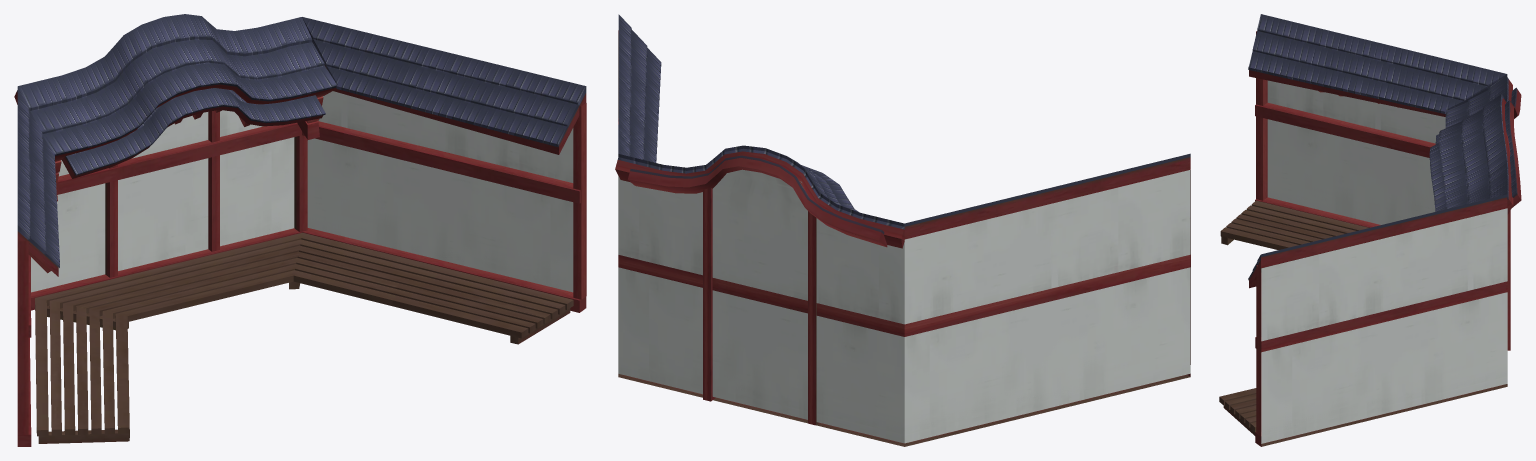
File: vipwall01.glb
3 renders of one model, left to right at view 1: azimuth 30°, elevation 25°; view 2: azimuth 150°, elevation 25°; view 3: azimuth 270°, elevation 25°, orthographic. The views are drawn at different scales.
Visible parts, largest first — view 1: VIPWall01_Art; view 2: VIPWall01_Art; view 3: VIPWall01_Art.
Part boxes in pixels (x1=…): VIPWall01_Art: x1=14, y1=14, x2=586, y2=446; VIPWall01_Art: x1=615, y1=14, x2=1190, y2=446; VIPWall01_Art: x1=1219, y1=14, x2=1521, y2=446.
Bounding box in the file's own units: 28.09 × 12.25 × 14.91.
1 material, 1 textured.
